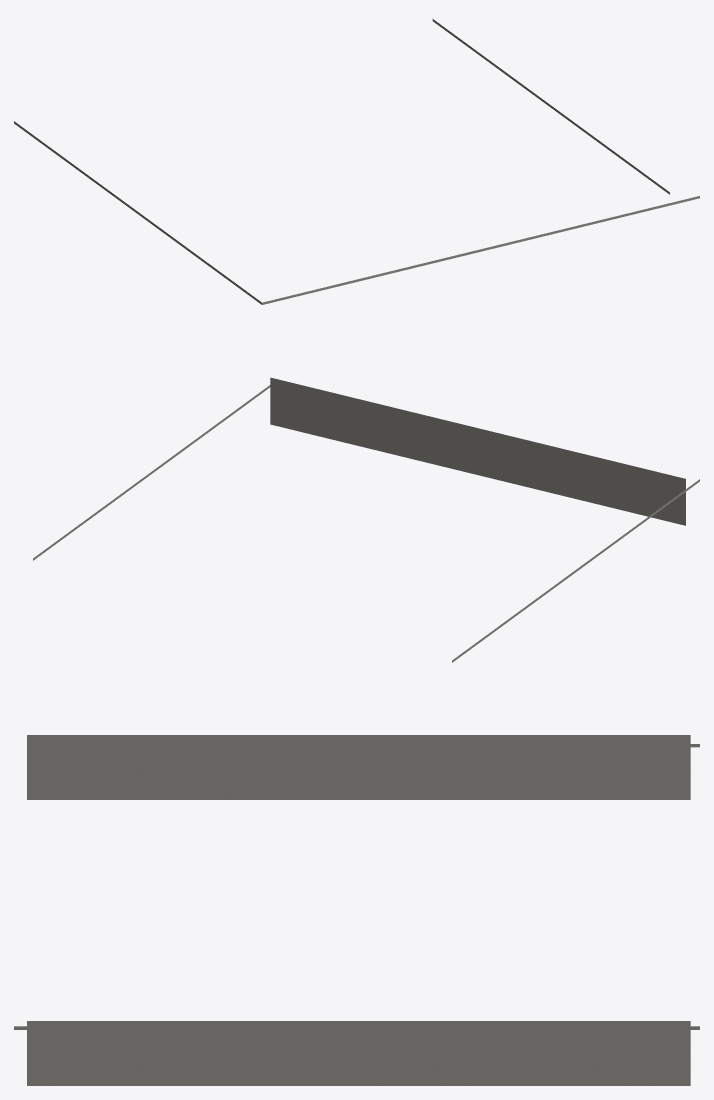
The model's file is kd_stage_135d18_0_16.glb.
3 views of the same model, one above another, from view 1: azimuth 30°, elevation 25°; view 2: azimuth 150°, elevation 25°; view 3: azimuth 270°, elevation 25° (orthographic). The views are drawn at different scales.
Parts seen in each view (by area): view 1: kd_stage_135d18_0_16; view 2: kd_stage_135d18_0_16; view 3: kd_stage_135d18_0_16.
Boxes of the visible parts, bbox=[...] form: kd_stage_135d18_0_16: bbox=[14, 19, 699, 304]; kd_stage_135d18_0_16: bbox=[33, 377, 699, 662]; kd_stage_135d18_0_16: bbox=[14, 735, 699, 1085].
Bounding box in the file's own units: 18.39 × 1.89 × 18.05.
Materials: 1 (1 with a texture image).
